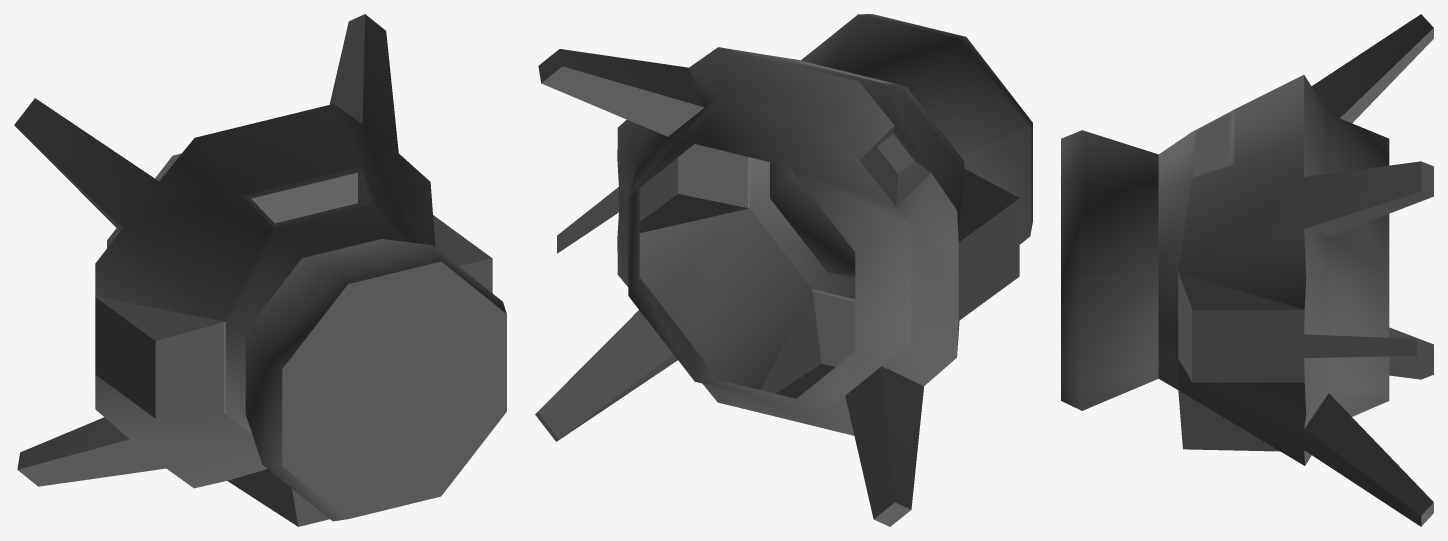
Rendered from stat_hangar2.glb.
3 views of the same model, side by side, from view 1: azimuth 30°, elevation 25°; view 2: azimuth 150°, elevation 25°; view 3: azimuth 270°, elevation 25° (orthographic). The views are drawn at different scales.
Parts seen in each view (by area): view 1: group_19; view 2: group_19; view 3: group_19.
Boxes of the visible parts, box(x1,y1,x2,y2) form: group_19: box(14, 14, 506, 526); group_19: box(535, 14, 1032, 526); group_19: box(1061, 14, 1433, 526).
Bounding box in the file's own units: 12650 × 12650 × 11631.
Materials: 2 (2 with a texture image).
